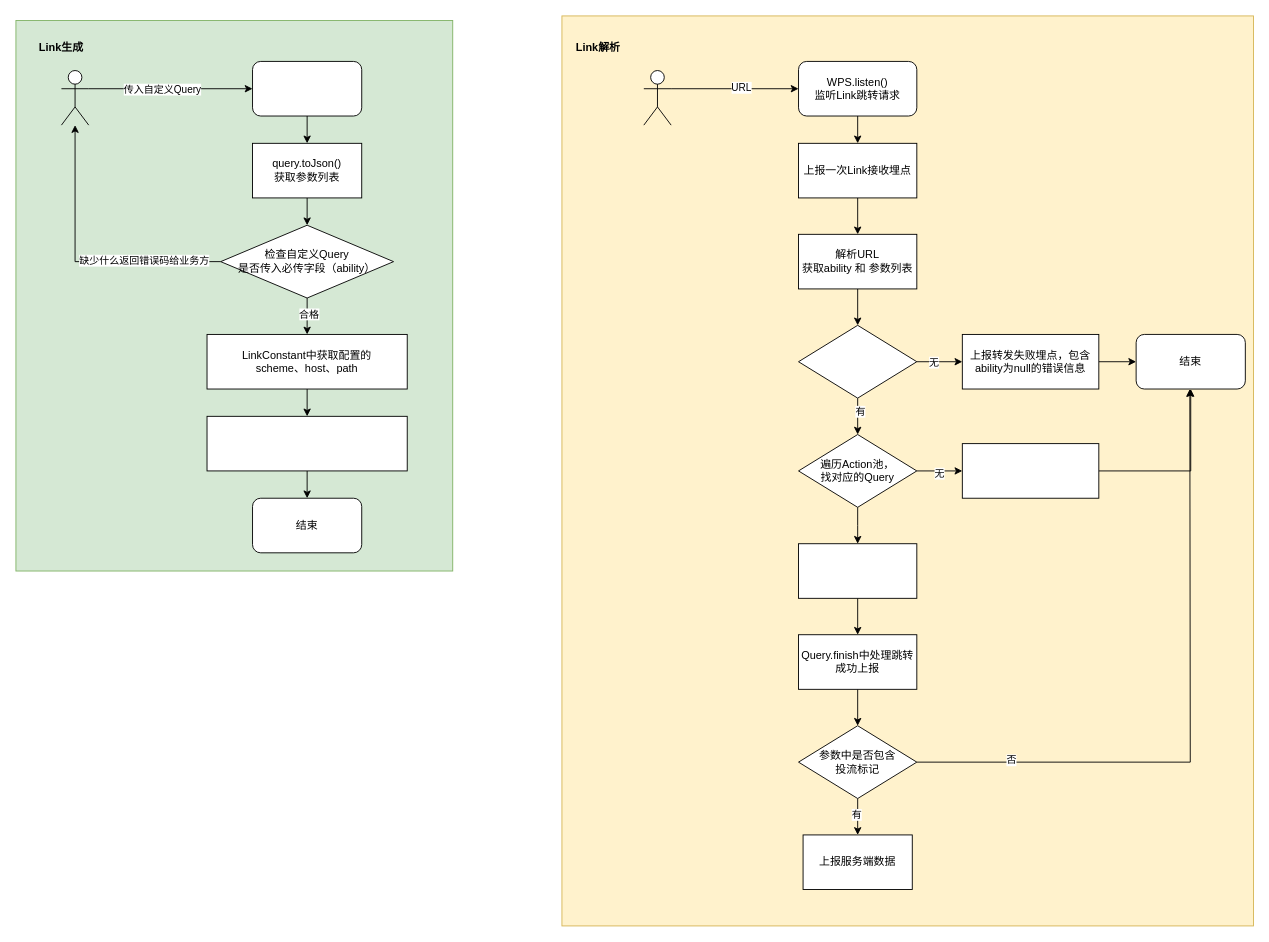
The diagram is 1269 pixels wide and 942 high, and some of its shapes have lost their labels. Each missing label, with the centre of its shape:
ability是否有值: the point at 857,361
query.doExecute() 业务自定义的Query中重写的doExecute操作: the point at 857,570
WPS.open(): the point at 307,88
三方APP / WEB: the point at 657,97
上报转发失败埋点，包含未有对应Query的错误信息: the point at 1030,470
业务方: the point at 75,97
按scheme://host/path?ability=xxx&key1=val1&key2=val2 格式生成Link链接: the point at 306,443
